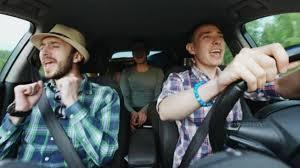Awake: (188, 20, 231, 67)
Drowsy: (28, 23, 91, 84)
